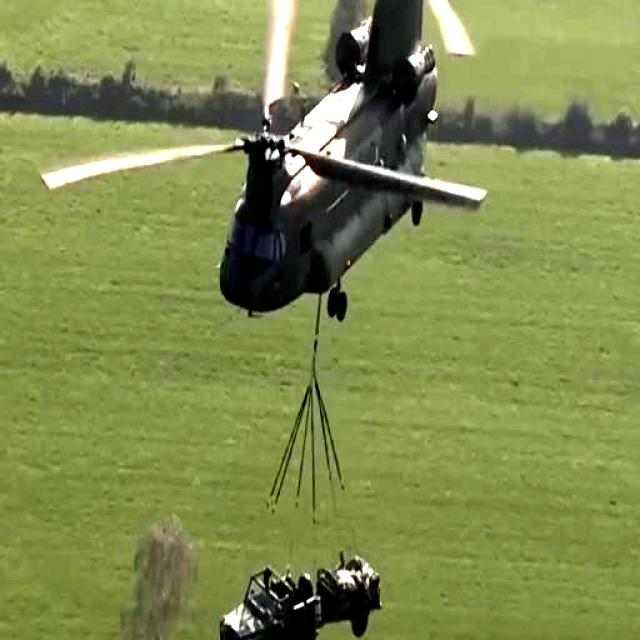drone: (144, 0, 511, 329)
